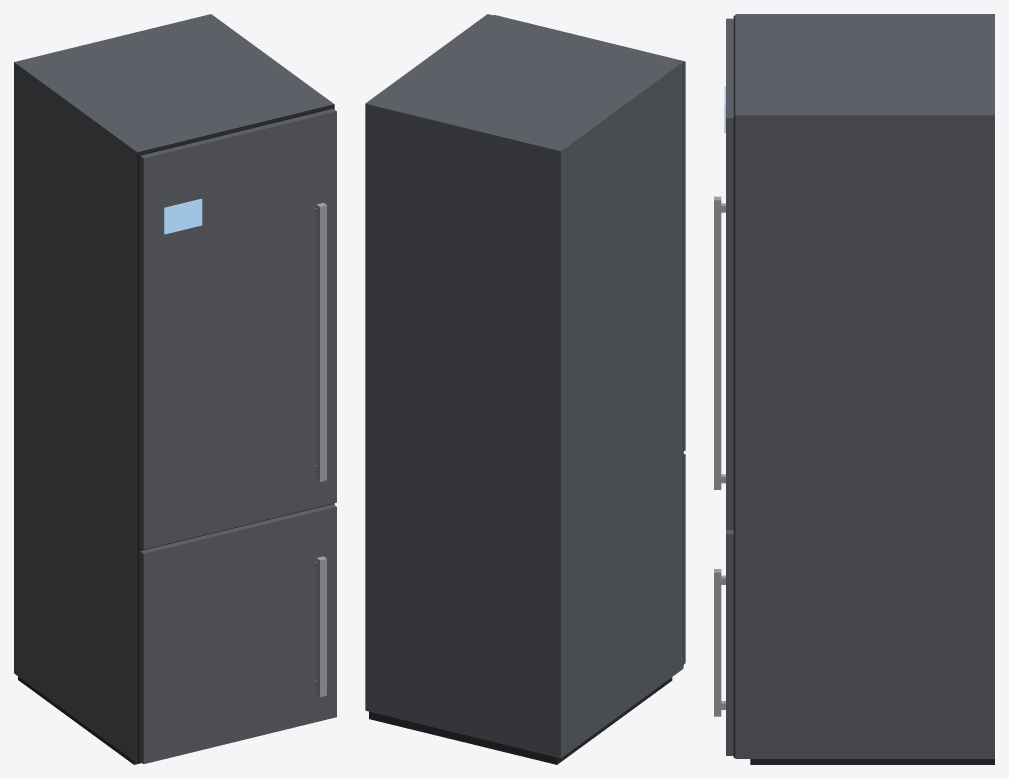
Rendered from FN_Appliance_Fridge.glb.
The picture shows the model from 3 angles, left to right: view 1: azimuth 30°, elevation 25°; view 2: azimuth 150°, elevation 25°; view 3: azimuth 270°, elevation 25°; orthographic projection. The views are drawn at different scales.
Parts seen in each view (by area): view 1: FN_Appliance_Fridge; view 2: FN_Appliance_Fridge; view 3: FN_Appliance_Fridge.
Part boxes in pixels (bbox=[...]): FN_Appliance_Fridge: bbox=[14, 14, 336, 764]; FN_Appliance_Fridge: bbox=[365, 14, 685, 764]; FN_Appliance_Fridge: bbox=[714, 14, 994, 764].
Bounding box in the file's own units: 0.6 × 1.8 × 0.703.
Materials: 2 (2 with a texture image).
